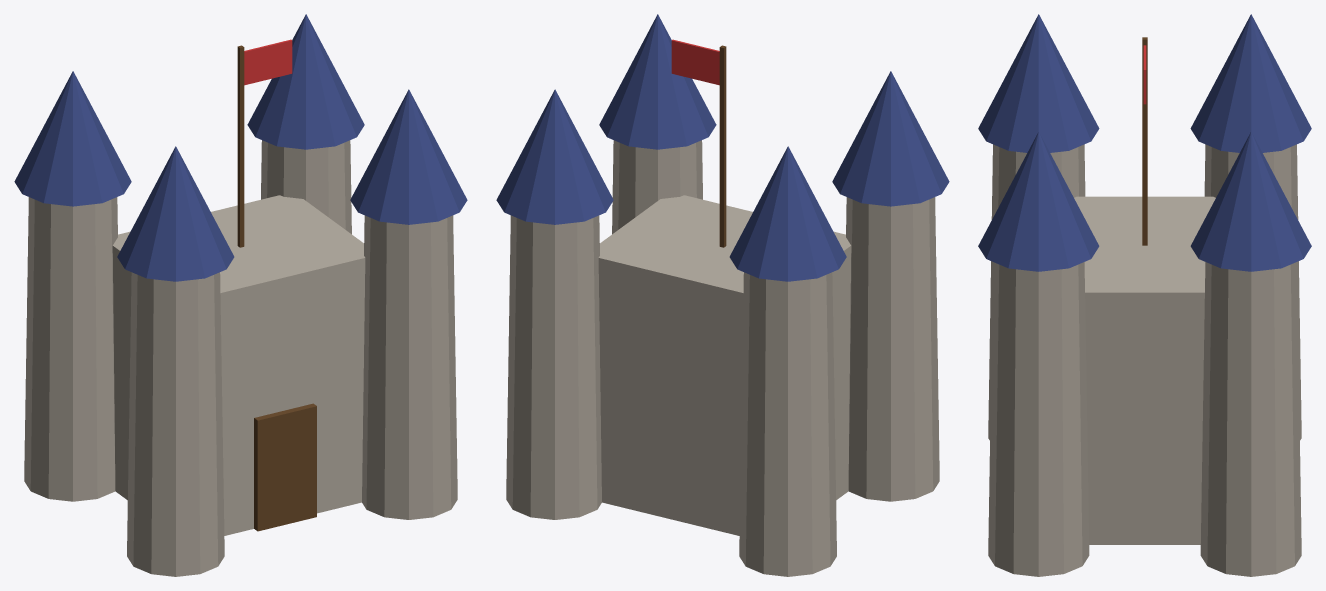
The model's file is lm_castle.glb.
3 views of the same model, side by side, from view 1: azimuth 30°, elevation 25°; view 2: azimuth 150°, elevation 25°; view 3: azimuth 270°, elevation 25° (orthographic). The views are drawn at different scales.
Visible parts, largest first — view 1: keep, tower, tower.002, tower.001, cone.001, cone.002, cone, cone.003, gate, tower.003, banner, flag; view 2: keep, tower.001, tower.003, tower, cone, cone.003, cone.001, cone.002, tower.002, banner, flag; view 3: keep, tower.002, tower.003, cone.002, cone.003, cone, cone.001, tower, tower.001, flag.
Part boxes in pixels (box(x1,y1,x2,y2)): keep: box(112, 195, 365, 535); tower: box(127, 272, 224, 576); tower.002: box(362, 215, 457, 519); tower.001: box(24, 197, 117, 501); cone.001: box(14, 71, 131, 206); cone.002: box(350, 89, 467, 224); cone: box(117, 146, 234, 281); cone.003: box(247, 14, 364, 149); gate: box(254, 403, 316, 531); tower.003: box(261, 140, 351, 234); banner: box(244, 39, 292, 85); flag: box(237, 45, 244, 247); keep: box(598, 195, 851, 535); tower.001: box(739, 272, 836, 576); tower.003: box(506, 215, 601, 519); tower: box(846, 197, 939, 501); cone: box(832, 71, 949, 206); cone.003: box(496, 89, 613, 224); cone.001: box(729, 146, 846, 281); cone.002: box(599, 14, 716, 149); tower.002: box(612, 140, 702, 234); banner: box(671, 39, 719, 85); flag: box(719, 45, 726, 247); keep: box(1074, 196, 1215, 544); tower.002: box(988, 262, 1089, 576); tower.003: box(1200, 262, 1301, 576); cone.002: box(978, 132, 1099, 271); cone.003: box(1190, 132, 1311, 271); cone: box(978, 14, 1099, 152); cone.001: box(1190, 14, 1311, 152); tower: box(988, 144, 1085, 440); tower.001: box(1204, 144, 1301, 440); flag: box(1142, 37, 1147, 245).
Size of the model in its own units: 1.58 by 2 by 1.32.
